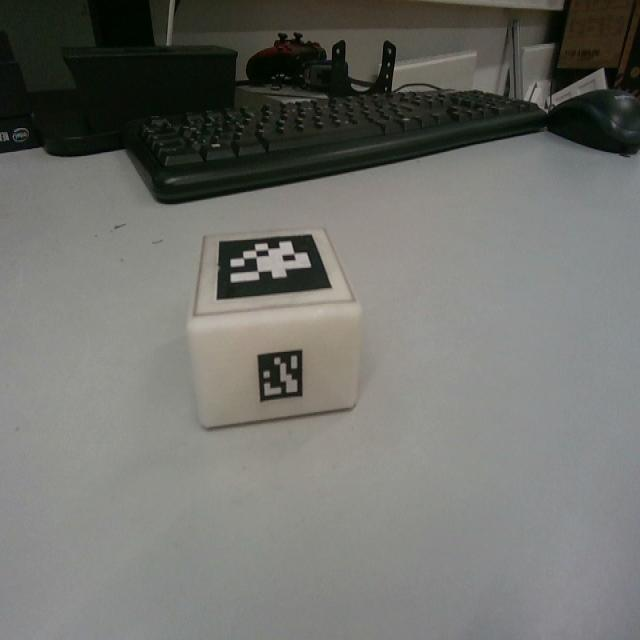Cube: (185, 225, 363, 428)
